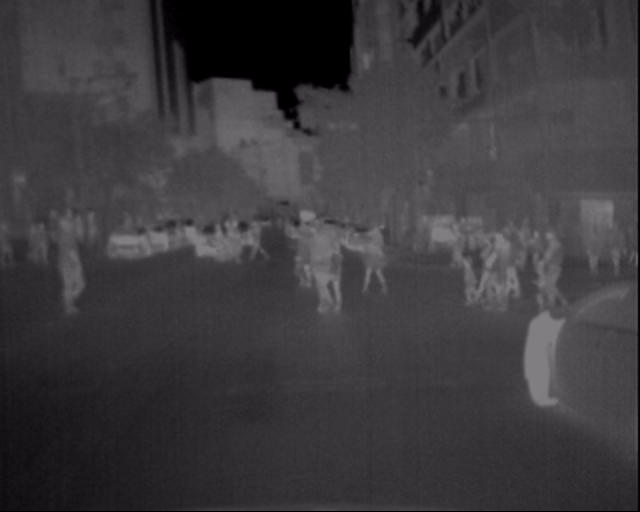person: (44, 218, 98, 327), (435, 217, 532, 277), (197, 208, 272, 274), (301, 220, 349, 319), (298, 210, 344, 290), (349, 220, 393, 293), (529, 220, 562, 310), (285, 216, 318, 296), (483, 227, 514, 306), (451, 251, 478, 304)
